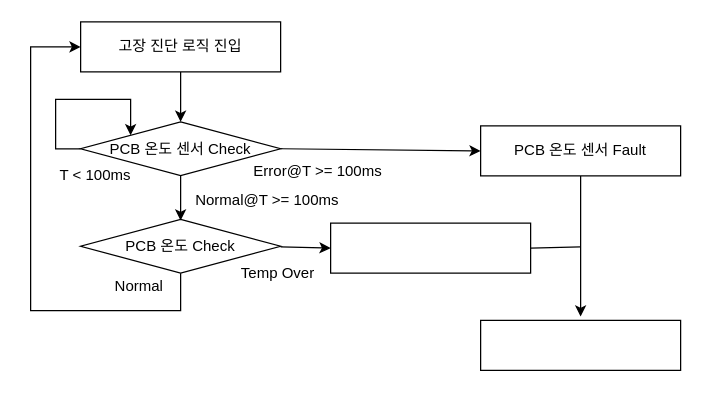
This 703x393 diagram has some shape labels left out. The centre of each missing label's shape, as x and y in pixels:
PCB 온도 과열 Fault: the point at 430,247
작동 정지 후 기본 로직 수행: the point at 580,344
